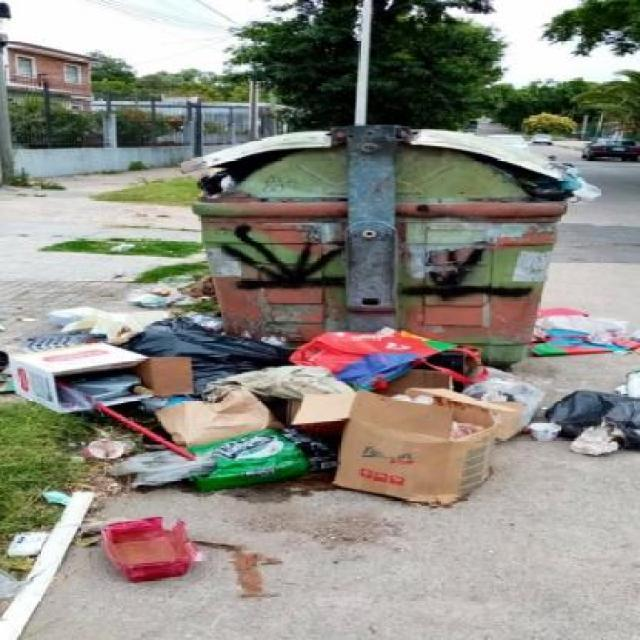garbage: (5, 265, 639, 452), (35, 456, 372, 596), (367, 456, 526, 512), (512, 157, 623, 208), (200, 174, 268, 212)
